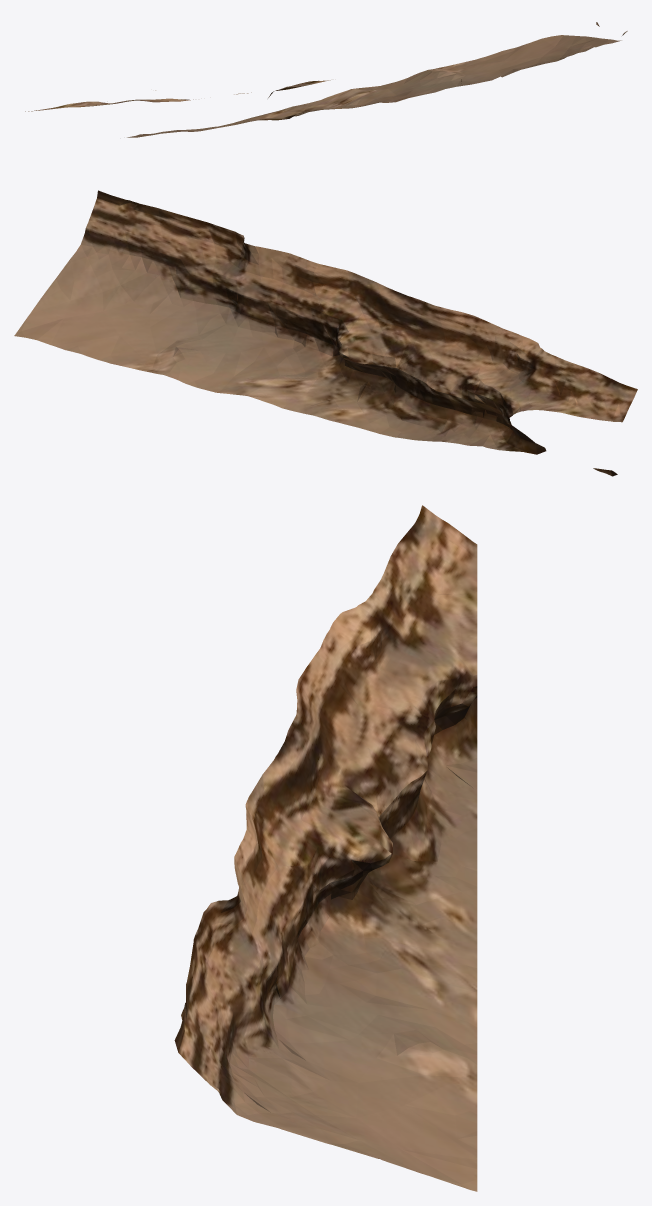
The picture shows the model from 3 angles, top to bottom: view 1: azimuth 30°, elevation 25°; view 2: azimuth 150°, elevation 25°; view 3: azimuth 270°, elevation 25°; orthographic projection. The views are drawn at different scales.
Size of the model in its own units: 1.04 by 0.1523 by 0.2497.
Materials: 1 (1 with a texture image).
